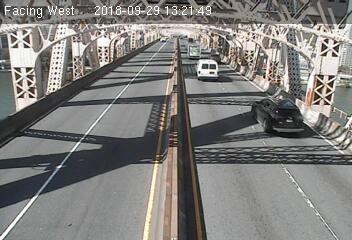car: (251, 97, 304, 137), (193, 58, 226, 86), (186, 42, 204, 60)
